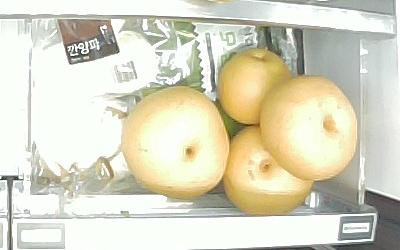pear: (121, 85, 229, 200), (258, 75, 357, 180), (223, 124, 314, 213), (217, 49, 293, 124)
